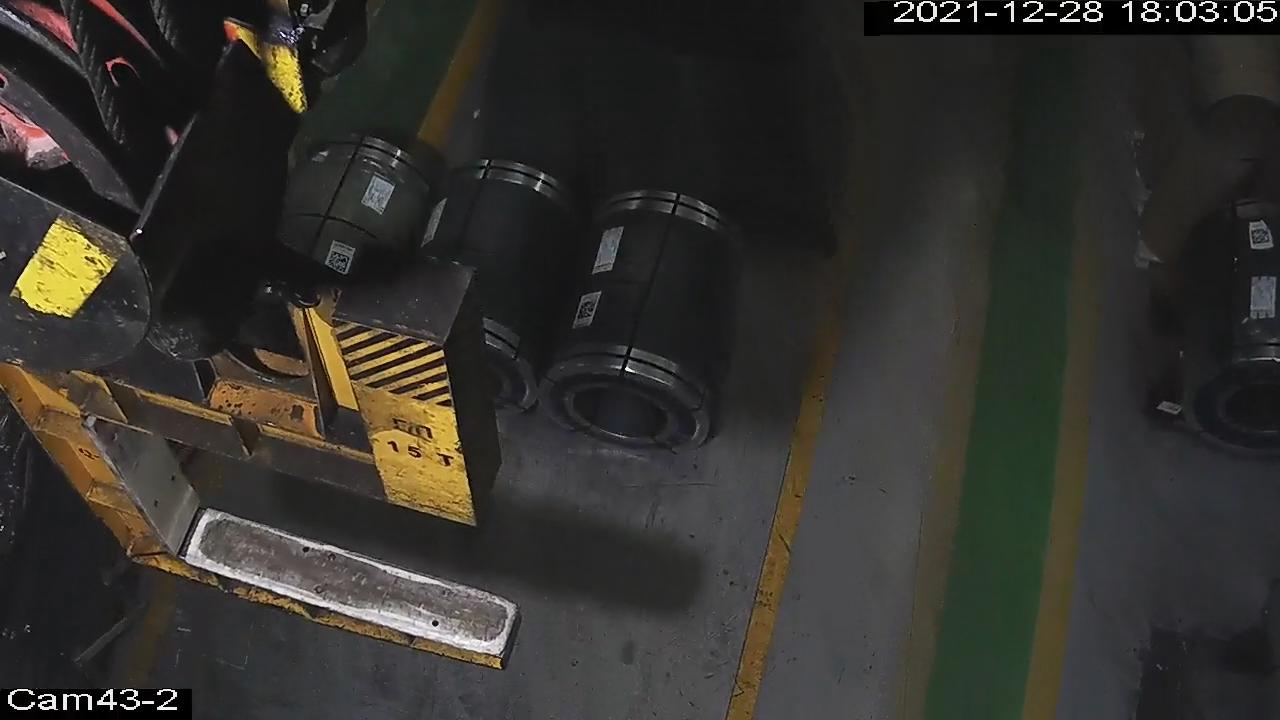data matrix: (326, 250, 352, 276), (1249, 226, 1275, 248), (577, 299, 600, 323)
